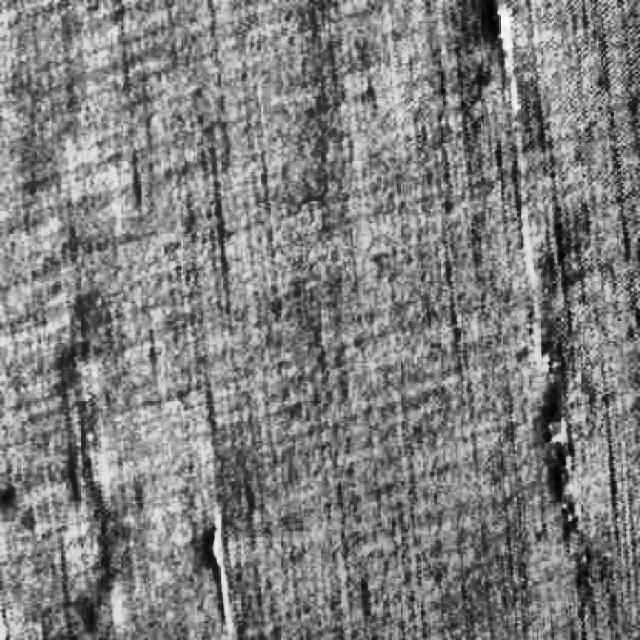thread_error: (473, 0, 548, 374), (525, 372, 606, 640), (202, 494, 248, 640)
